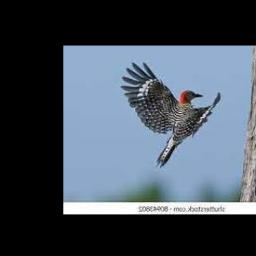Woodpecker: (120, 62, 221, 168)
